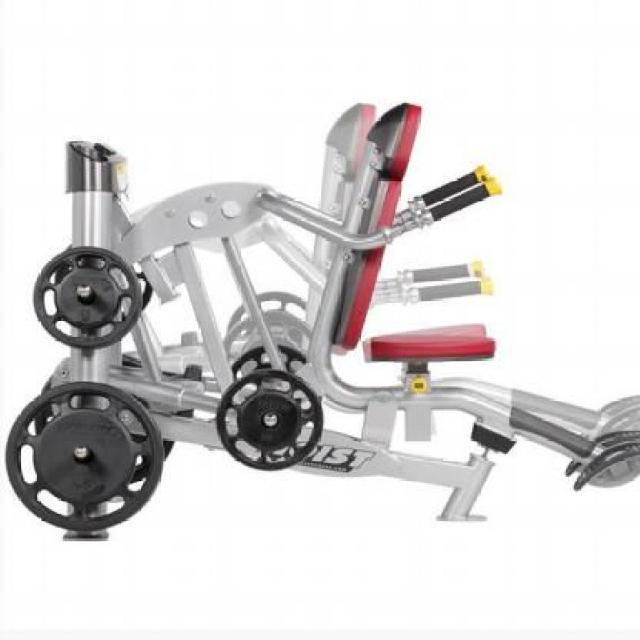seated dip machine: (6, 103, 640, 542)
